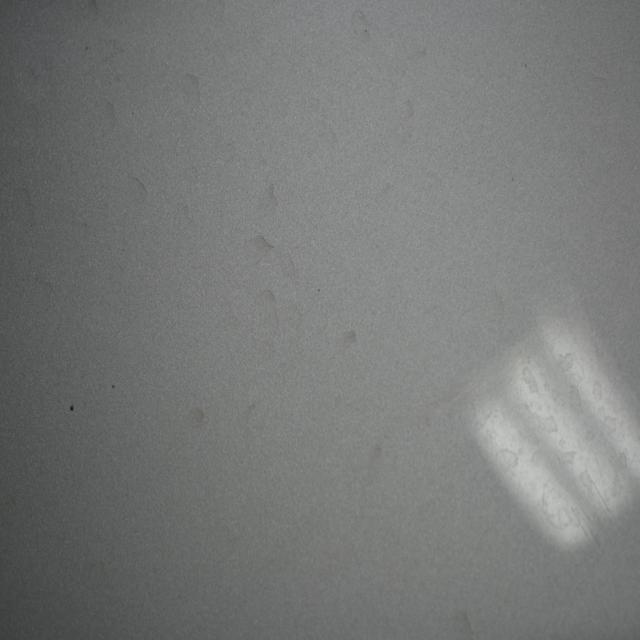dirt: (68, 400, 76, 416), (110, 381, 116, 391)
water marks: (246, 276, 284, 348), (537, 467, 578, 532), (304, 104, 343, 158), (85, 96, 121, 147), (527, 397, 561, 447), (8, 182, 39, 234), (242, 225, 276, 272), (234, 388, 266, 434), (124, 158, 150, 214), (492, 430, 518, 482), (177, 66, 204, 112), (606, 481, 632, 524), (260, 178, 282, 226), (348, 8, 373, 48), (551, 347, 580, 381), (577, 457, 599, 501), (563, 380, 584, 423), (333, 321, 358, 356), (184, 402, 206, 434), (365, 437, 385, 471), (519, 363, 538, 396), (598, 416, 616, 442), (614, 449, 630, 477), (591, 377, 603, 407)
